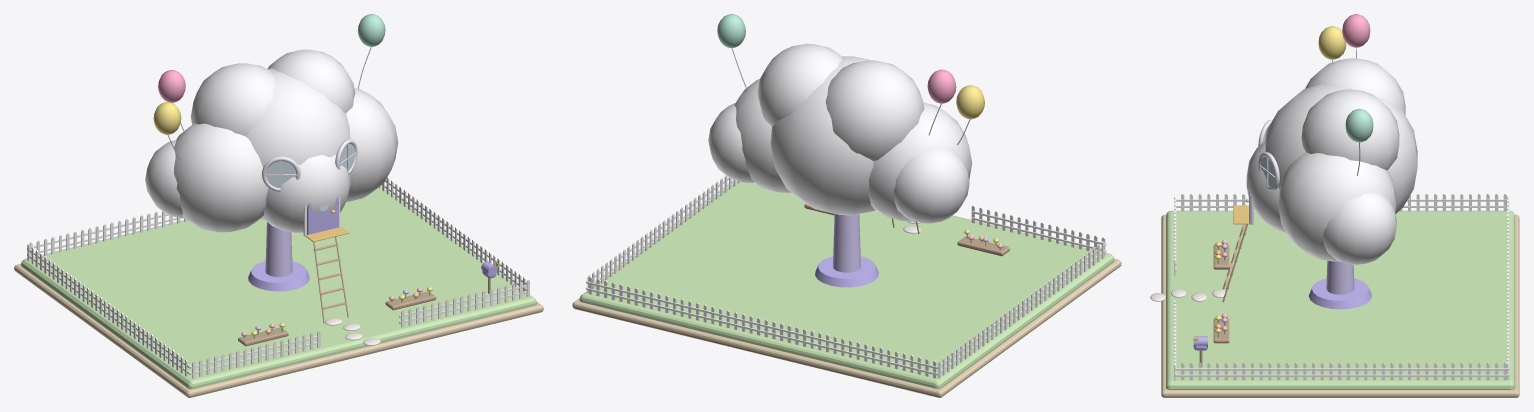
Rendered from building_sky_L07.glb.
3 renders of one model, left to right at view 1: azimuth 30°, elevation 25°; view 2: azimuth 150°, elevation 25°; view 3: azimuth 270°, elevation 25°, orthographic. The views are drawn at different scales.
Parts seen in each view (by area): view 1: sky_L7; view 2: sky_L7; view 3: sky_L7.
Part boxes in pixels (bbox=[...]): sky_L7: bbox=[14, 14, 543, 397]; sky_L7: bbox=[572, 14, 1121, 397]; sky_L7: bbox=[1150, 14, 1519, 397].
Bounding box in the file's own units: 26.61 × 17.47 × 23.29.
